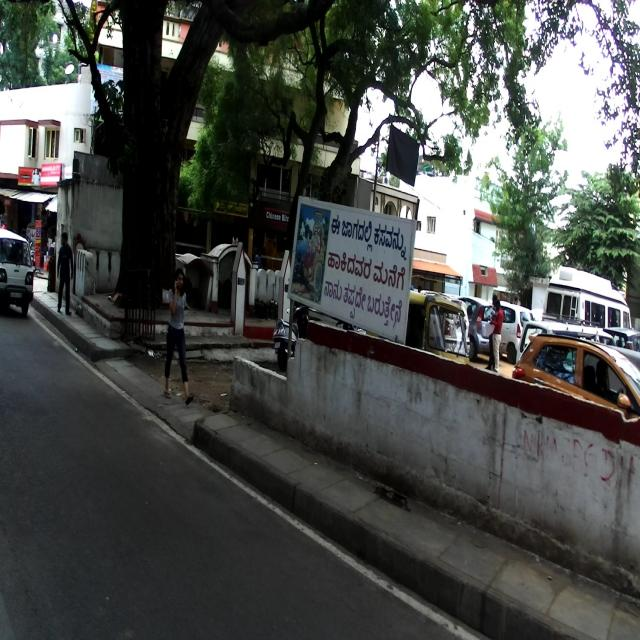autorickshaw: (406, 283, 469, 363)
car: (510, 337, 640, 422), (516, 313, 616, 386), (0, 228, 36, 314)
scooter: (273, 306, 309, 370)
